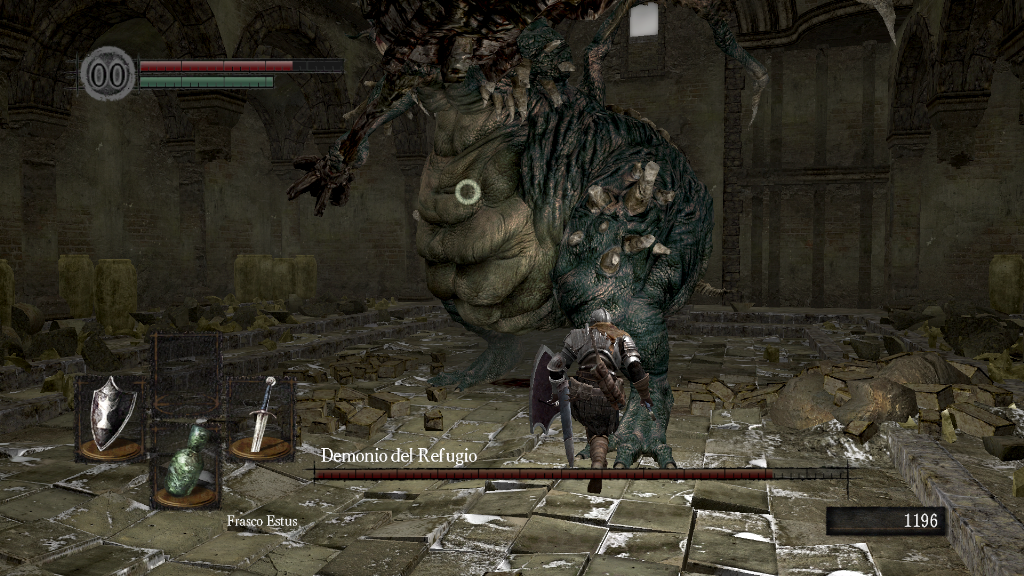asylumDemon: (286, 1, 771, 472)
bossHP: (314, 469, 847, 479)
health: (138, 58, 343, 71)
humanity: (80, 45, 136, 102)
player: (526, 306, 655, 497)
souls: (825, 506, 945, 536)
stamina: (138, 74, 274, 88)
